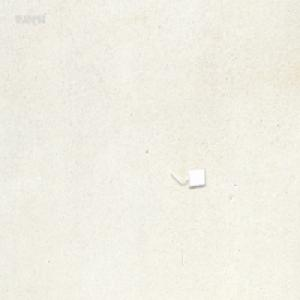LuggageTag: (169, 167, 206, 188)
